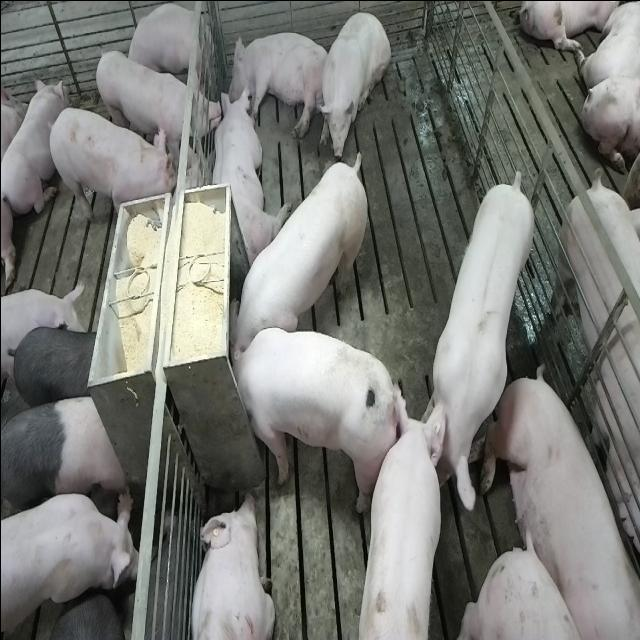Feeding: (220, 325, 394, 507), (230, 143, 372, 356)
Lateral_lying: (226, 29, 329, 140)
Sitting: (316, 7, 391, 160)
Standing: (420, 168, 535, 511), (548, 172, 640, 574), (352, 406, 444, 640), (2, 487, 138, 640), (2, 389, 129, 522), (44, 104, 174, 226), (7, 322, 104, 412)
Sternal_lying: (206, 86, 284, 268), (187, 490, 275, 640), (1, 74, 66, 221), (125, 2, 206, 88)
